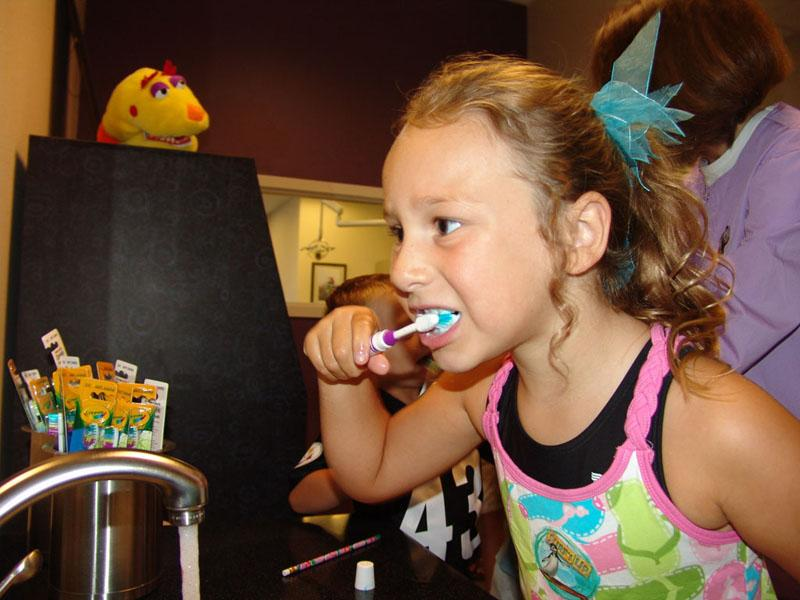person: (306, 52, 800, 598)
